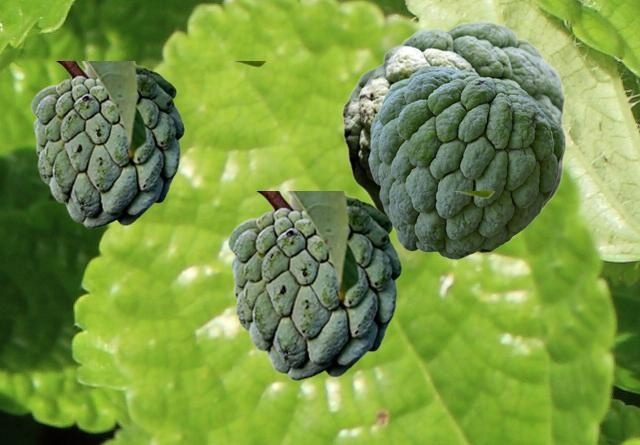atis: (227, 191, 493, 380), (341, 20, 566, 243), (30, 61, 265, 228), (368, 65, 562, 258)
